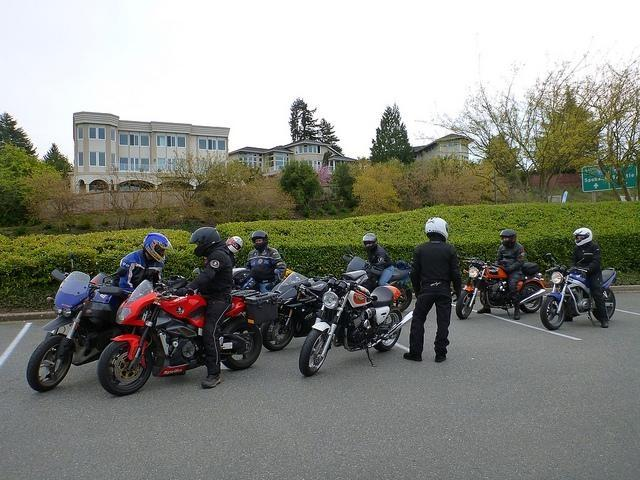motorcycle: (95, 268, 284, 400), (27, 253, 127, 394), (300, 278, 414, 378), (262, 268, 368, 350), (456, 250, 546, 318), (544, 268, 618, 328), (343, 255, 412, 312)
